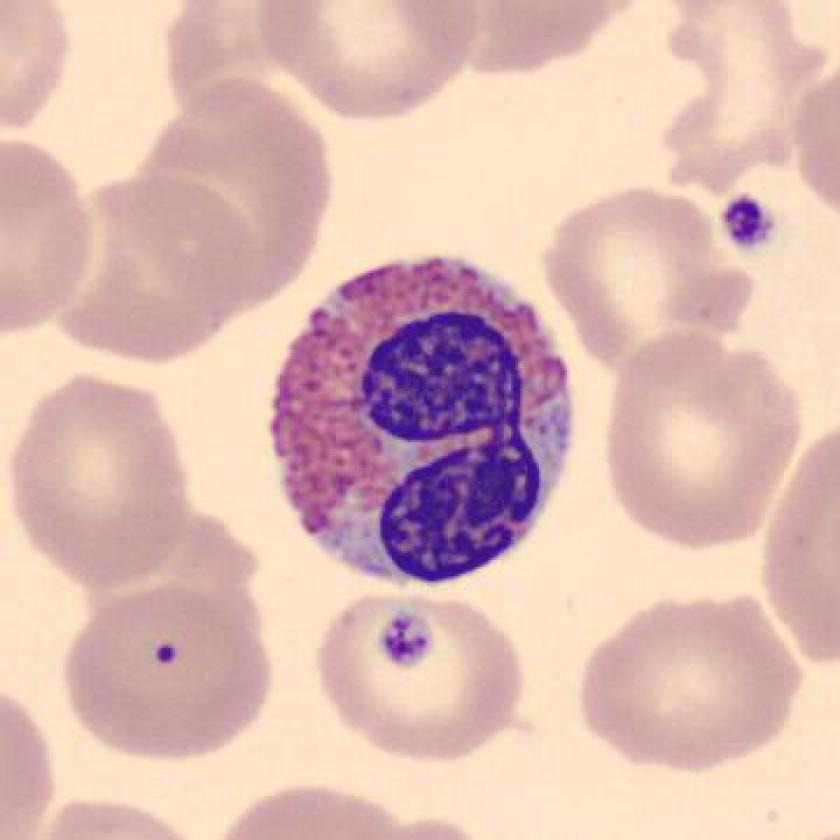eosinophil: (258, 242, 589, 596)
